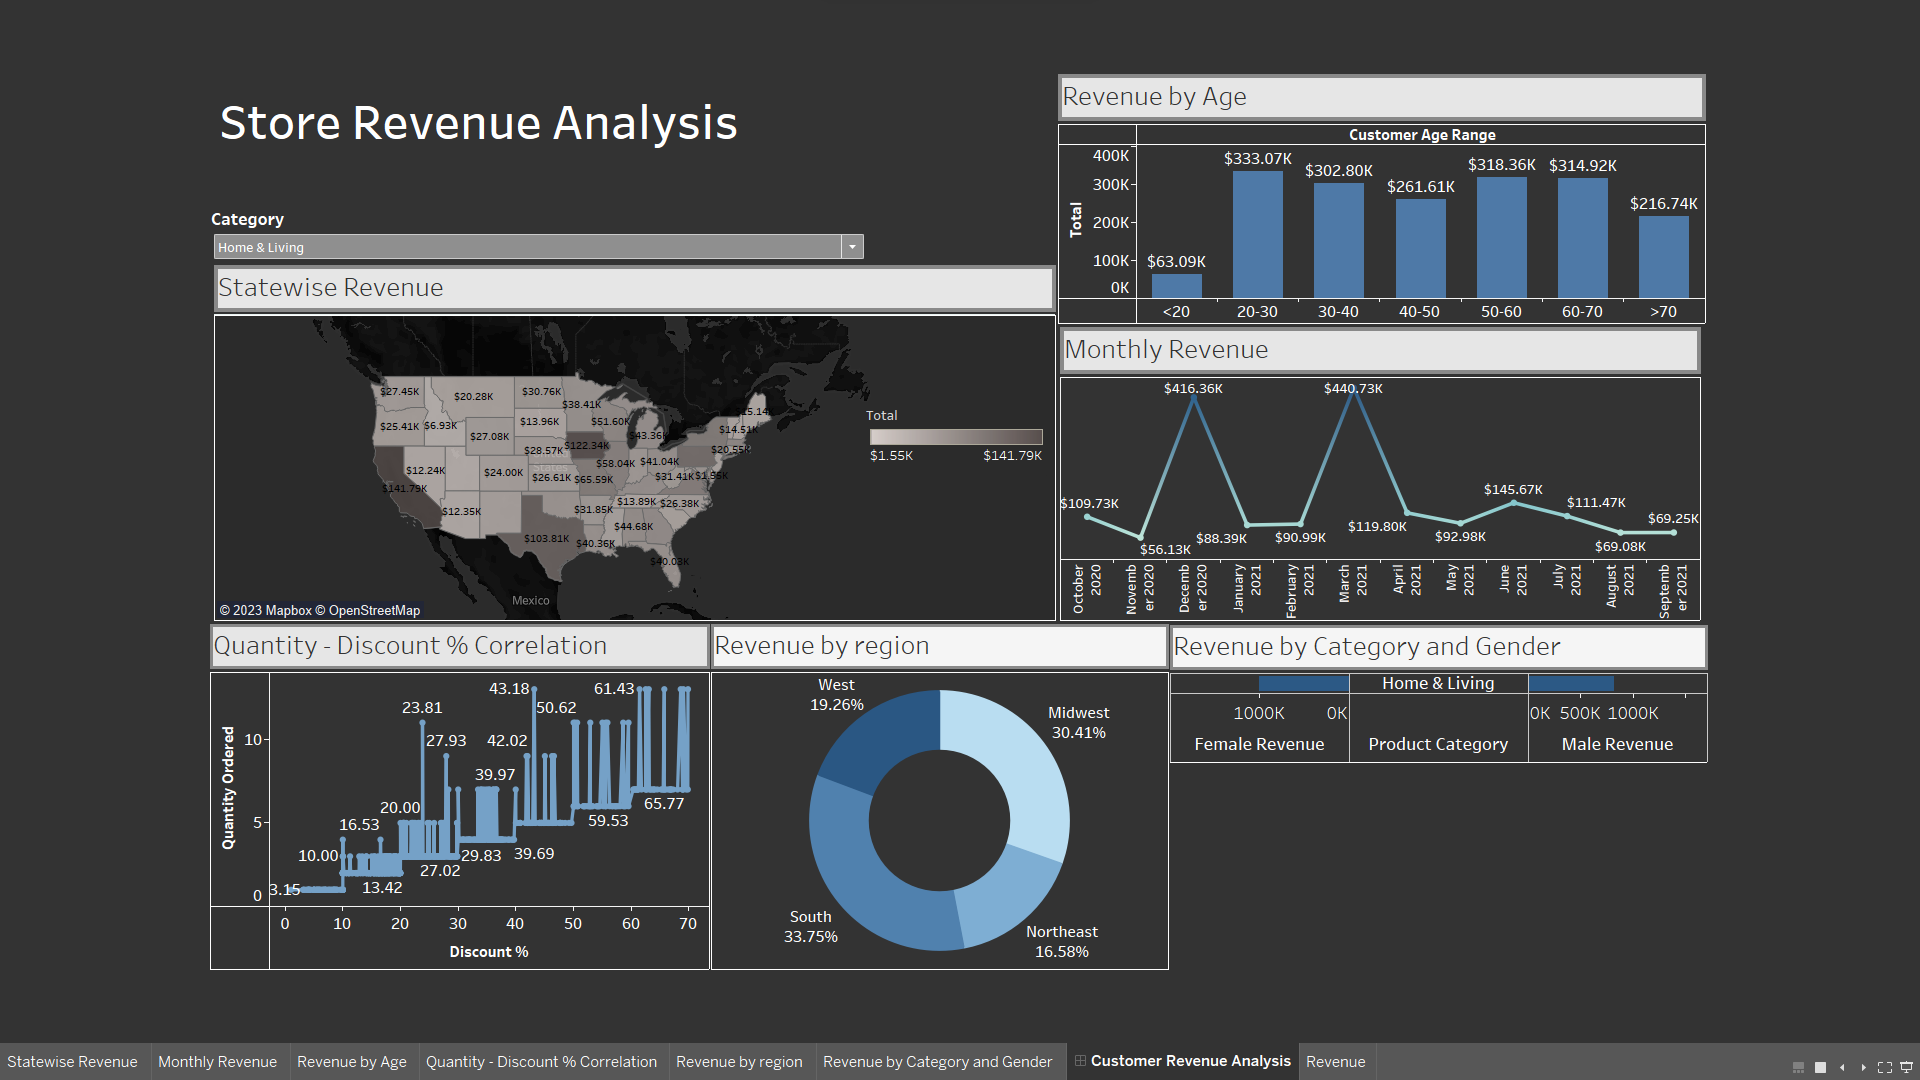

What the dashboard file says about the page in this screenshot:
{"tool":"tableau","page":{"name":"Customer Revenue Analysis","canvas":[1500,900],"ordinal":0},"visuals":[{"type":"worksheet","title":"Revenue by Age","mark":"Automatic","rows":["TOTAL"],"cols":["AGE (bin)"],"box":[848,3,648,250]},{"type":"text","box":[6,4,811,91]},{"type":"title","box":[8,8,1484,50]},{"type":"filter","title":"Revenue by Category and Gender","param":"[federated.03jwtbb1bxogr118ijr150libtiu].[none:CATEGORY:nk]","box":[1,136,656,56]},{"type":"worksheet","title":"Statewise Revenue","mark":"Automatic","box":[4,194,842,356]},{"type":"worksheet","title":"Monthly Revenue","mark":"Automatic","rows":["TOTAL"],"cols":["MONTH"],"box":[850,256,641,295]},{"type":"legend","title":"Statewise Revenue","param":"[federated.03jwtbb1bxogr118ijr150libtiu].[sum:TOTAL:qk]","box":[656,335,181,75]},{"type":"worksheet","title":"Quantity - Discount % Correlation","mark":"Line","rows":["QUANTITY_ORDERED"],"cols":["DISCOUNT %"],"box":[0,553,500,346]},{"type":"worksheet","title":"Revenue by region","mark":"Pie","rows":["Calculation_1163336143163842561","Calculation_1163336143163842561"],"box":[501,553,458,346]},{"type":"worksheet","title":"Revenue by Category and Gender","mark":"Automatic","rows":["CATEGORY"],"cols":["Calculation_1163336143165546498","Calculation_1163336143163842561","Calculation_1163336143165775875"],"box":[960,554,540,345]}]}

Visuals, with their boxes on the page's 1500x900 design canvas (x1, y1, x2, y2). These are canvas units, not pixel positions in the 1920x1080 screenshot, which may show the page scaled, cropped or inside an application window:
"Revenue by Age" worksheet: l=848, t=3, r=1496, b=253
text: l=6, t=4, r=817, b=95
title: l=8, t=8, r=1492, b=58
"Revenue by Category and Gender" filter: l=1, t=136, r=657, b=192
"Statewise Revenue" worksheet: l=4, t=194, r=846, b=550
"Monthly Revenue" worksheet: l=850, t=256, r=1491, b=551
"Statewise Revenue" legend: l=656, t=335, r=837, b=410
"Quantity - Discount % Correlation" worksheet (Line marks): l=0, t=553, r=500, b=899
"Revenue by region" worksheet (Pie marks): l=501, t=553, r=959, b=899
"Revenue by Category and Gender" worksheet: l=960, t=554, r=1500, b=899
